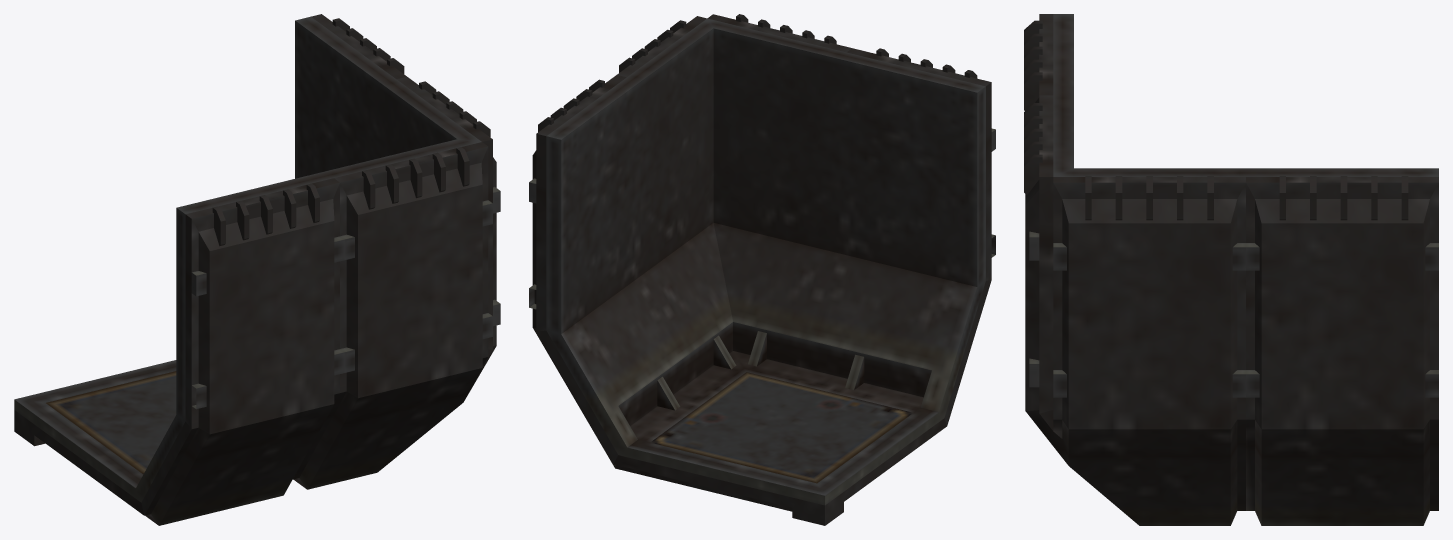
Rendered from Wall_combined_1_corner_in.FBX.
3 renders of one model, left to right at view 1: azimuth 30°, elevation 25°; view 2: azimuth 150°, elevation 25°; view 3: azimuth 270°, elevation 25°, orthographic. The views are drawn at different scales.
Visible parts, largest first — view 1: Wall_combined_1_corner_in; view 2: Wall_combined_1_corner_in; view 3: Wall_combined_1_corner_in.
Boxes of the visible parts, bbox=[...] form: Wall_combined_1_corner_in: bbox=[14, 14, 500, 525]; Wall_combined_1_corner_in: bbox=[529, 14, 995, 525]; Wall_combined_1_corner_in: bbox=[1024, 14, 1438, 525].
Size of the model in its own units: 323 by 336 by 323.
